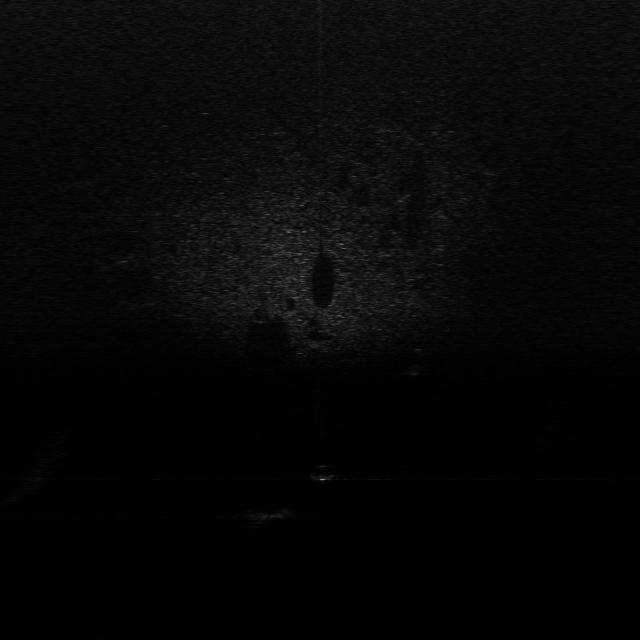ball: (312, 461, 336, 484)
square cage: (243, 503, 294, 523)
tyre: (399, 346, 428, 376)
